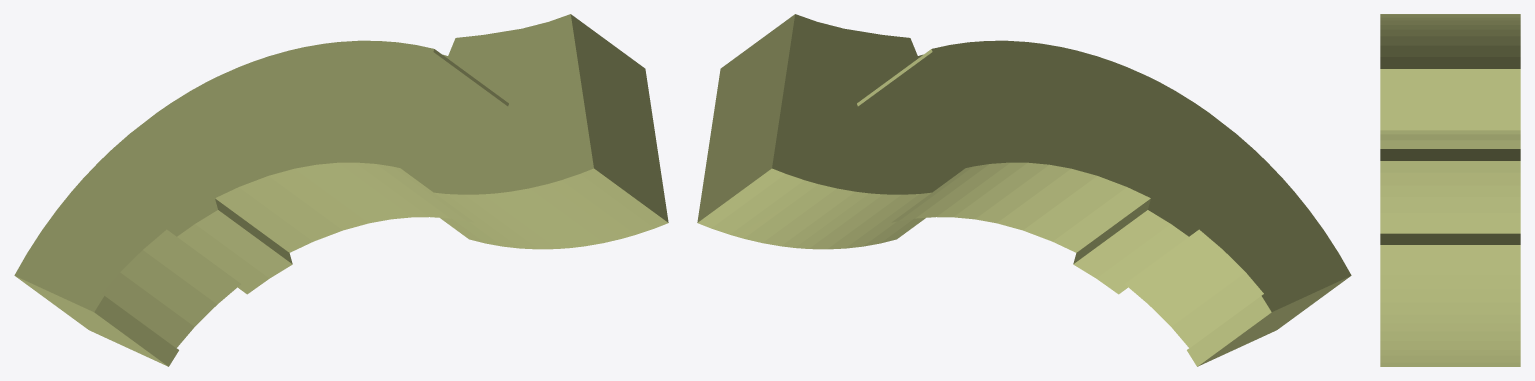
The picture shows the model from 3 angles, left to right: view 1: azimuth 30°, elevation 25°; view 2: azimuth 150°, elevation 25°; view 3: azimuth 270°, elevation 25°; orthographic projection. The views are drawn at different scales.
Visible parts, largest first — view 1: 0_3_2_0_1_3_3_1; view 2: 0_3_2_0_1_3_3_1; view 3: 0_3_2_0_1_3_3_1.
Part boxes in pixels (x1=…): 0_3_2_0_1_3_3_1: x1=14, y1=14, x2=668, y2=366; 0_3_2_0_1_3_3_1: x1=697, y1=14, x2=1351, y2=366; 0_3_2_0_1_3_3_1: x1=1380, y1=14, x2=1520, y2=366.
Size of the model in its own units: 40.34 by 14.25 by 9.
